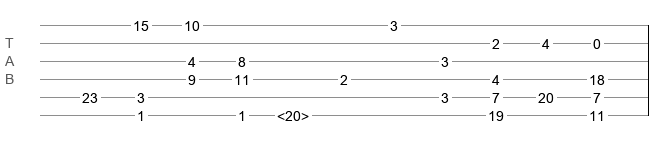0: (593, 36, 601, 46)
1: (137, 108, 145, 118), (238, 108, 246, 118)
10: (184, 18, 200, 28)
11: (234, 72, 250, 82), (589, 108, 605, 118)
15: (133, 18, 149, 28)
18: (589, 72, 605, 82)
19: (488, 108, 504, 118)
2: (340, 72, 348, 82), (492, 36, 500, 46)
20: (538, 90, 554, 100)
23: (82, 90, 98, 100)
3: (137, 90, 145, 100), (390, 18, 398, 28), (441, 54, 449, 64), (441, 90, 449, 100)
4: (188, 54, 196, 64), (492, 72, 500, 82), (542, 36, 550, 46)
7: (492, 90, 500, 100), (593, 90, 601, 100)
8: (238, 54, 246, 64)
9: (188, 72, 196, 82)
harmonic: (277, 108, 309, 118)
